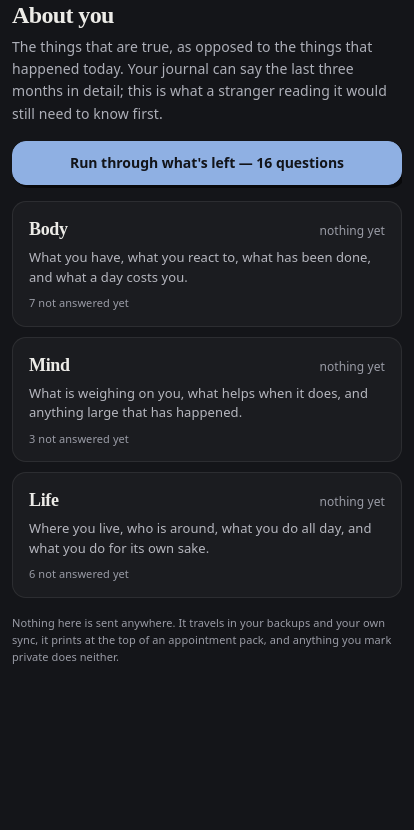
Test case: the run-through › always offers three ways off a question
The image size is (414, 830).
What coordinates should you click on to do the following:
click the button "Run through what's left — 16 questions"
I would click on:
 (207, 163)
Its box is [12,141,402,185].
(page scrolled)
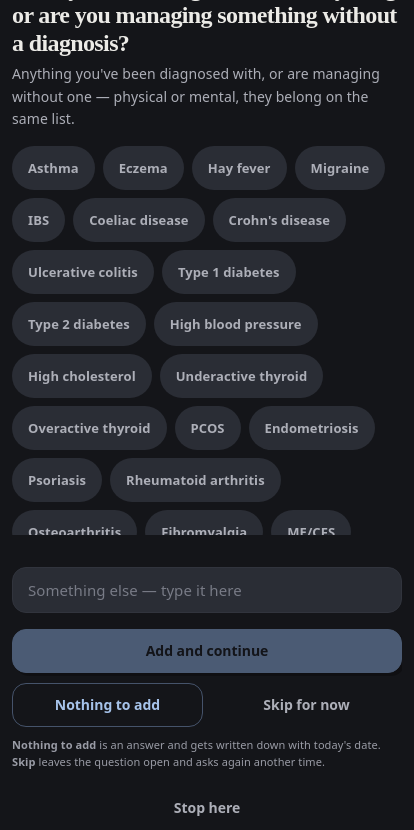
expect the button "Nothing to add" is shown: met, box [12,683,203,727]
expect the button "Skip for now" is shown: met, box [211,683,402,727]
expect the button "Stop here" is shown: met, box [12,786,402,829]
